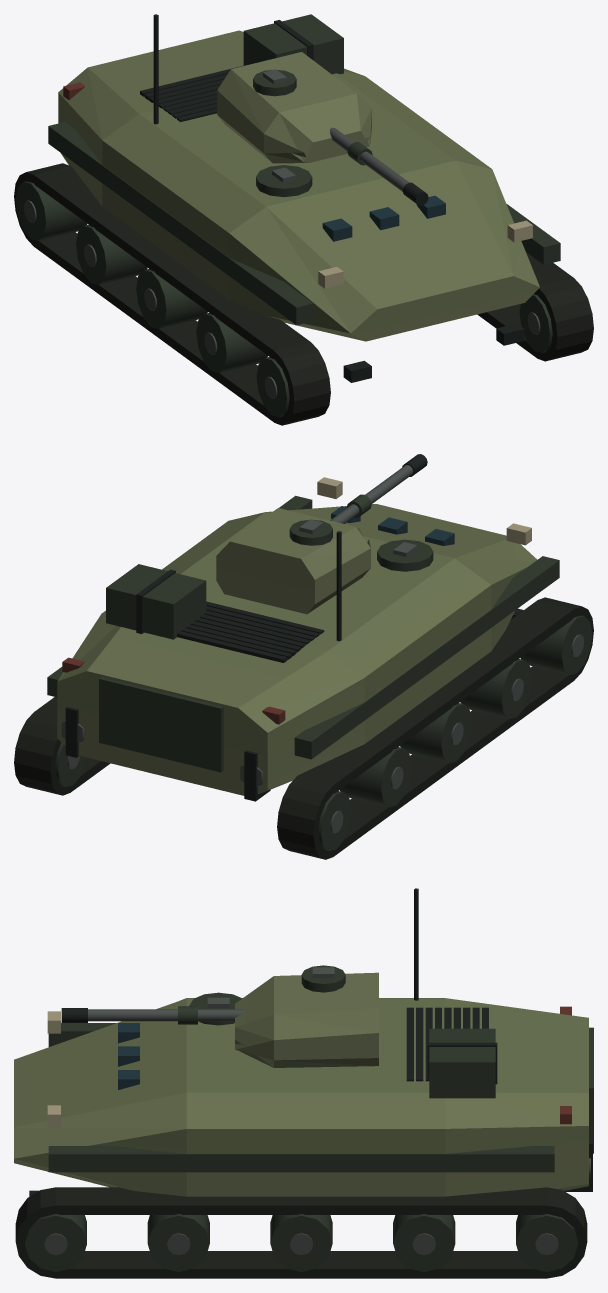
File: ifv-lod.glb
3 views of the same model, one above another, from view 1: azimuth 30°, elevation 25°; view 2: azimuth 150°, elevation 25°; view 3: azimuth 270°, elevation 25° (orthographic).
Visible parts, largest first — view 1: equipment (×3); view 2: equipment (×3); view 3: equipment (×3).
Boxes of the visible parts, <box> form: equipment (×3): <box>14,14,593,425</box>; equipment (×3): <box>14,454,593,859</box>; equipment (×3): <box>14,888,593,1278</box>.
Size of the model in its own units: 3.29 by 2.68 by 5.24.
